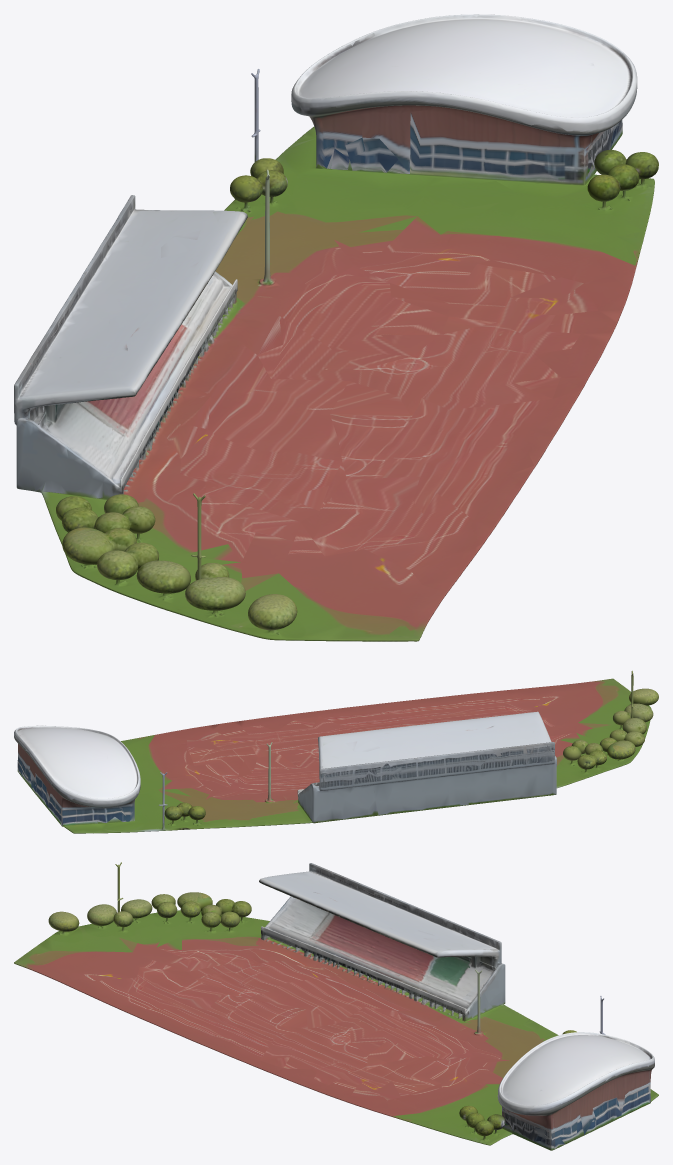
File: playground.glb
3 views of the same model, one above another, from view 1: azimuth 30°, elevation 25°; view 2: azimuth 150°, elevation 25°; view 3: azimuth 270°, elevation 25° (orthographic). The views are drawn at different scales.
Parts seen in each view (by area): view 1: node_0; view 2: node_0; view 3: node_0.
Part boxes in pixels (<box>): node_0: <box>14,14,658,641</box>; node_0: <box>14,670,658,833</box>; node_0: <box>14,862,658,1150</box>.
Bounding box in the file's own units: 0.9313 × 0.1167 × 1.04.
Materials: 1 (1 with a texture image).
